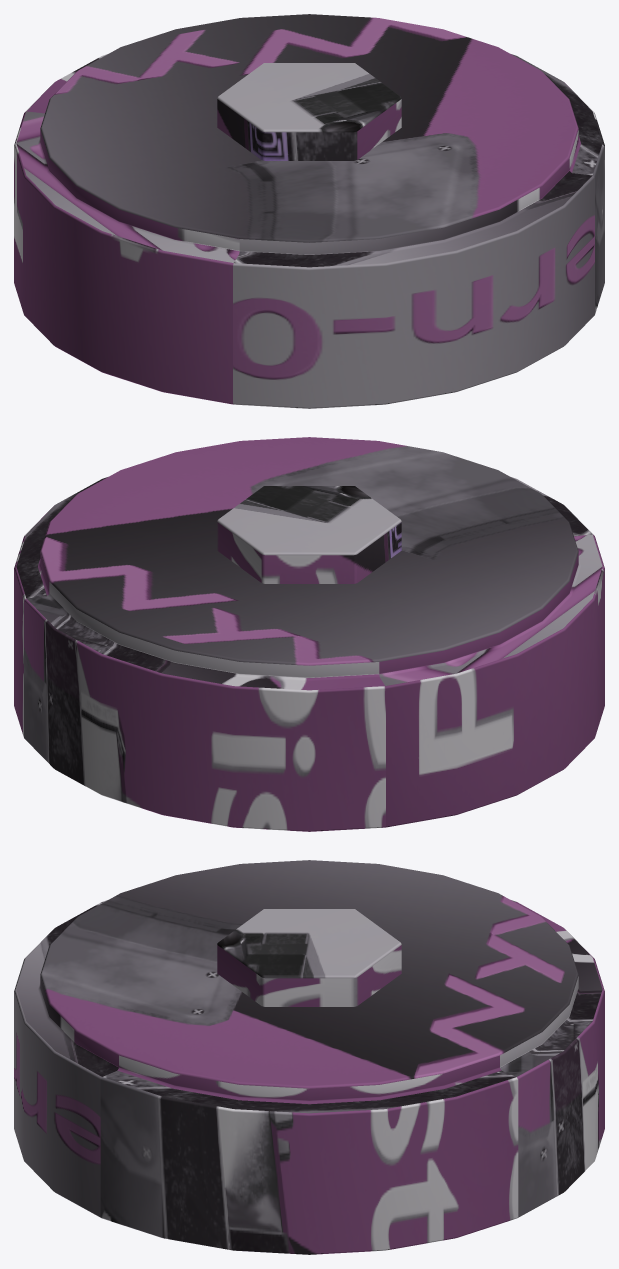
Rendered from SM_CealingLightCircular_Base.fbx.
3 renders of one model, top to bottom at view 1: azimuth 30°, elevation 25°; view 2: azimuth 150°, elevation 25°; view 3: azimuth 270°, elevation 25°, orthographic.
Visible parts, largest first — view 1: Lamp Base, Lamp Top - hexa; view 2: Lamp Base, Lamp Top - hexa; view 3: Lamp Base, Lamp Top - hexa.
Boxes of the visible parts, x1,y1,x2,y2 form: Lamp Base: (14, 14, 604, 408); Lamp Top - hexa: (217, 63, 401, 160); Lamp Base: (14, 437, 604, 831); Lamp Top - hexa: (217, 486, 401, 583); Lamp Base: (14, 860, 604, 1254); Lamp Top - hexa: (217, 909, 401, 1006).
Size of the model in its own units: 50.01 by 50.01 by 17.65.
